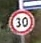limite 30: (7, 9, 35, 35)
